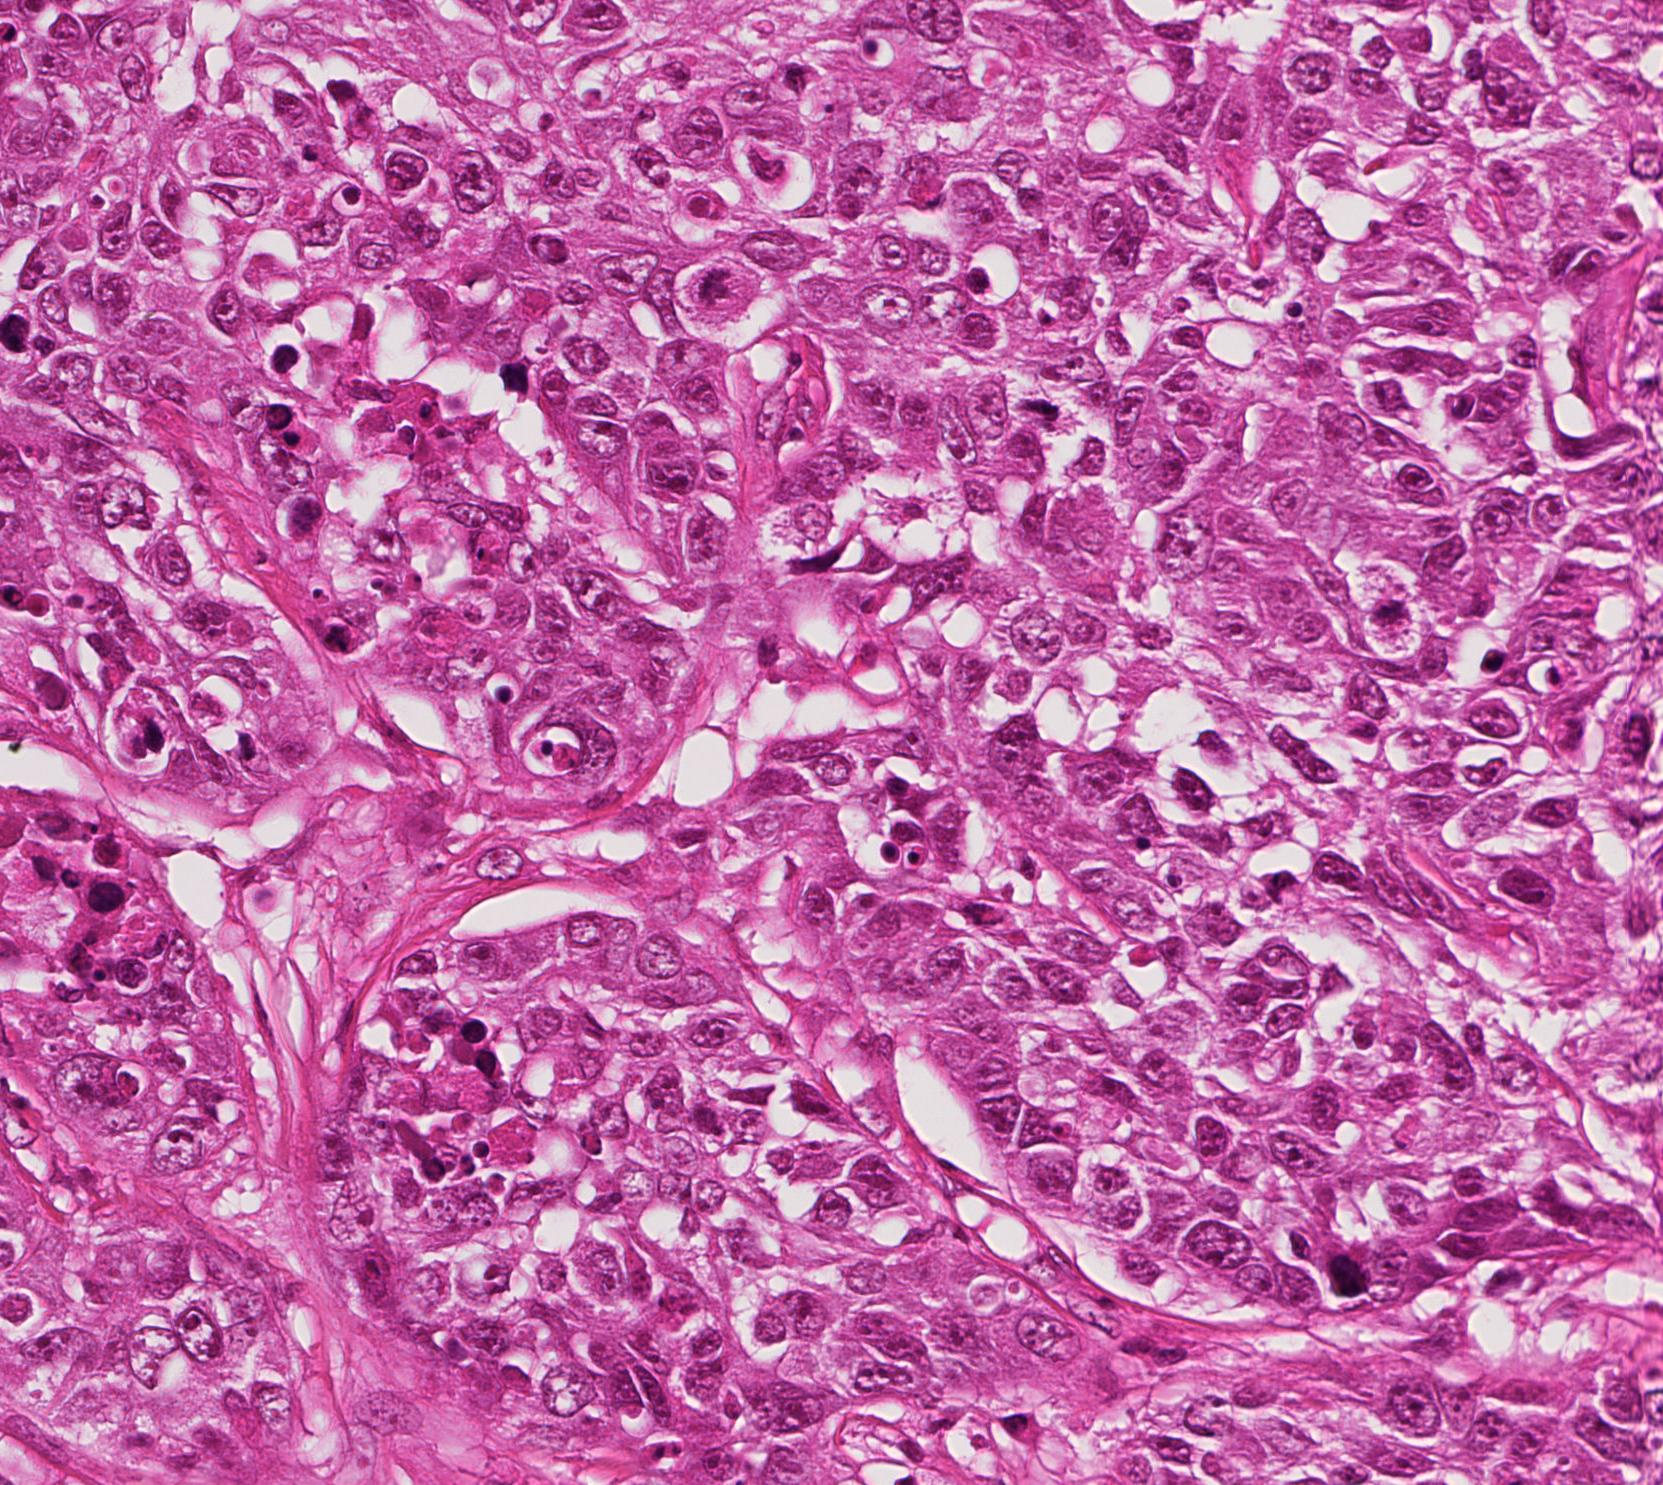mitosis: (687, 257, 745, 317)
